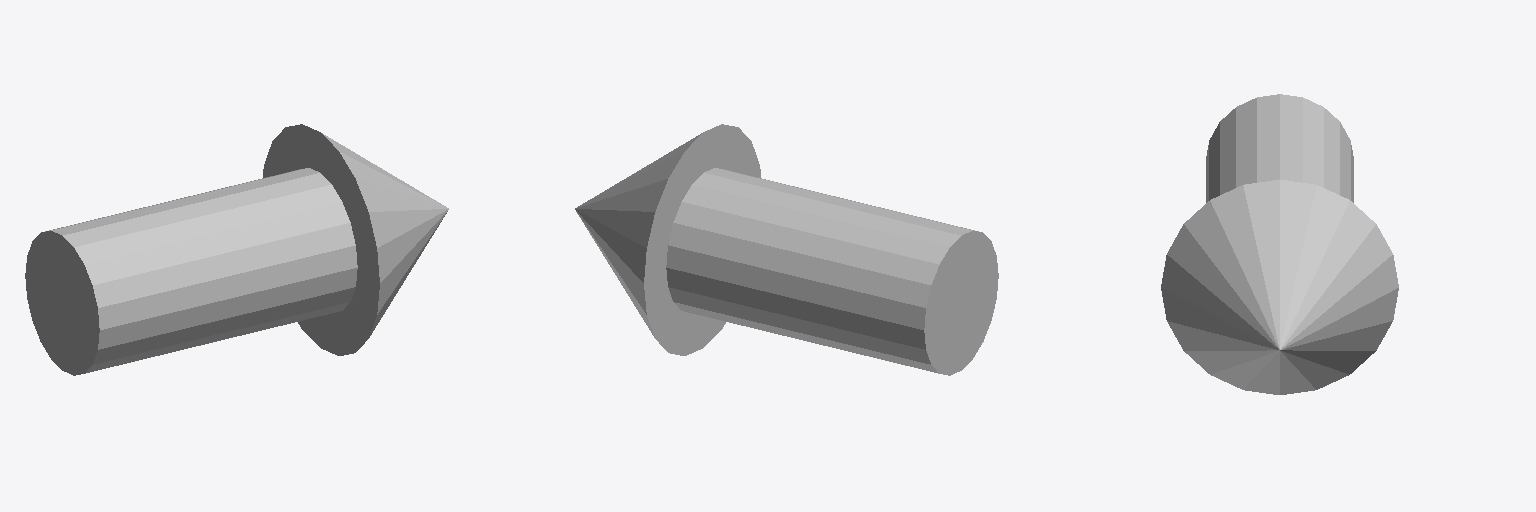
Rendered from vector.obj.
3 renders of one model, left to right at view 1: azimuth 30°, elevation 25°; view 2: azimuth 150°, elevation 25°; view 3: azimuth 270°, elevation 25°, orthographic.
Parts seen in each view (by area): view 1: Cylinder, Cone; view 2: Cylinder, Cone; view 3: Cone, Cylinder.
Part boxes in pixels (x1,y1,x2,y2): Cylinder: (25, 168, 357, 375); Cone: (263, 124, 448, 355); Cylinder: (666, 168, 998, 375); Cone: (575, 124, 760, 355); Cone: (1161, 180, 1398, 394); Cylinder: (1206, 94, 1353, 202).
Size of the model in its own units: 1.5 by 0.8 by 0.8.